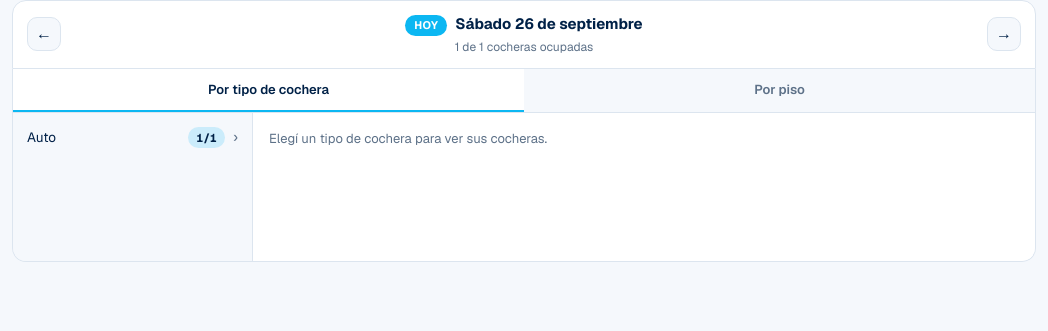
Test: OcupacionCocheras: moverse entre días › una reserva que cruza la medianoche aparece en los dos días
Click the button "Auto 1/1 ›" at point(132, 137), box [13, 113, 252, 162]
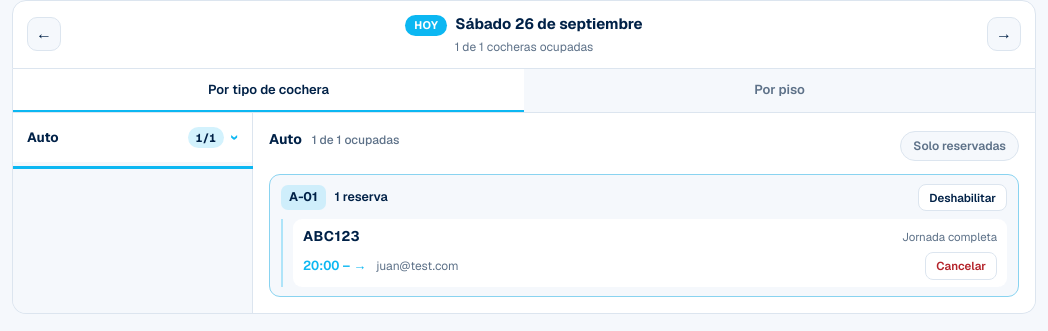
Result: the text "20:00 – →" is shown at [303, 256, 366, 276]
Click the button named "día siguiente" at point(1004, 34), box [987, 17, 1021, 51]
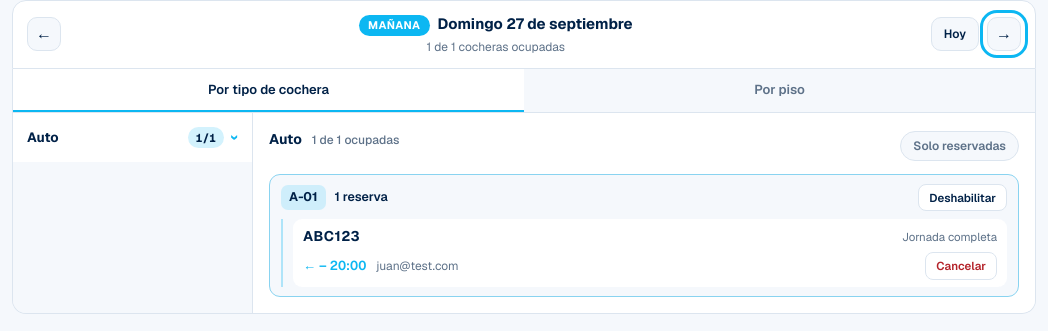
Result: the text "← – 20:00" is shown at [303, 256, 366, 276]
